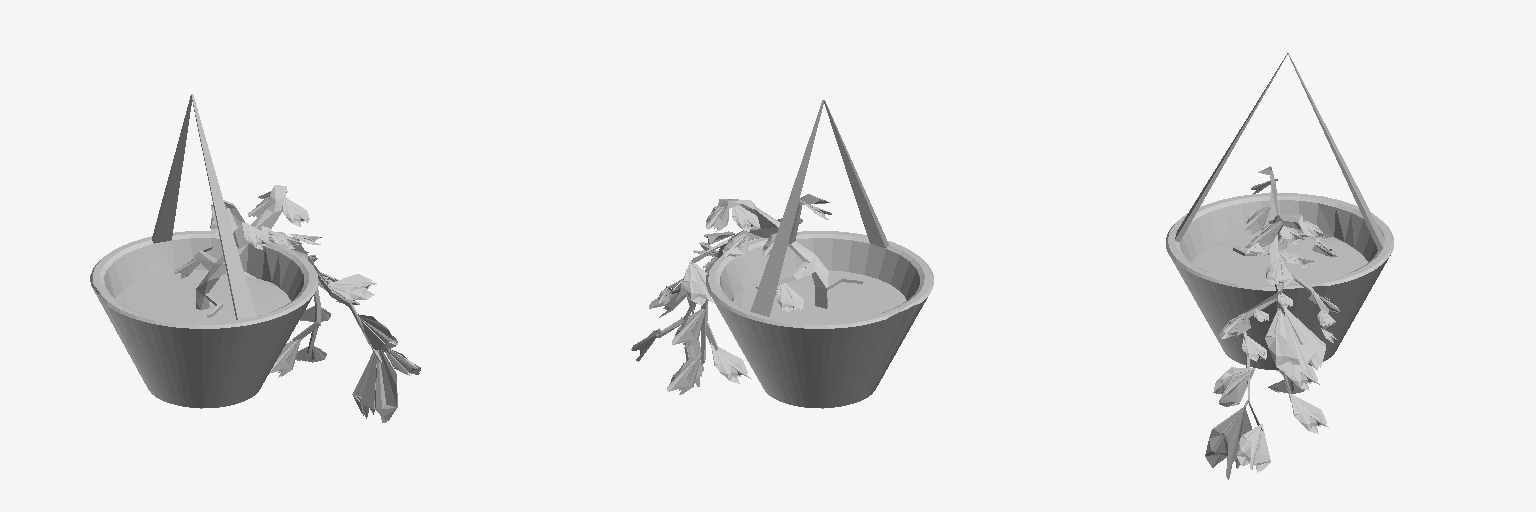
Rendered from plant hangin out.obj.
3 renders of one model, left to right at view 1: azimuth 30°, elevation 25°; view 2: azimuth 150°, elevation 25°; view 3: azimuth 270°, elevation 25°, orthographic.
Parts seen in each view (by area): view 1: plant_Cylinder.005; view 2: plant_Cylinder.005; view 3: plant_Cylinder.005.
Boxes of the visible parts, x1=… form: plant_Cylinder.005: x1=90, y1=94, x2=420, y2=422; plant_Cylinder.005: x1=631, y1=100, x2=933, y2=408; plant_Cylinder.005: x1=1166, y1=53, x2=1393, y2=479.
Size of the model in its own units: 3 by 3.3 by 1.97.